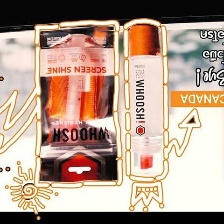cleaning_solution: (122, 19, 170, 184)
